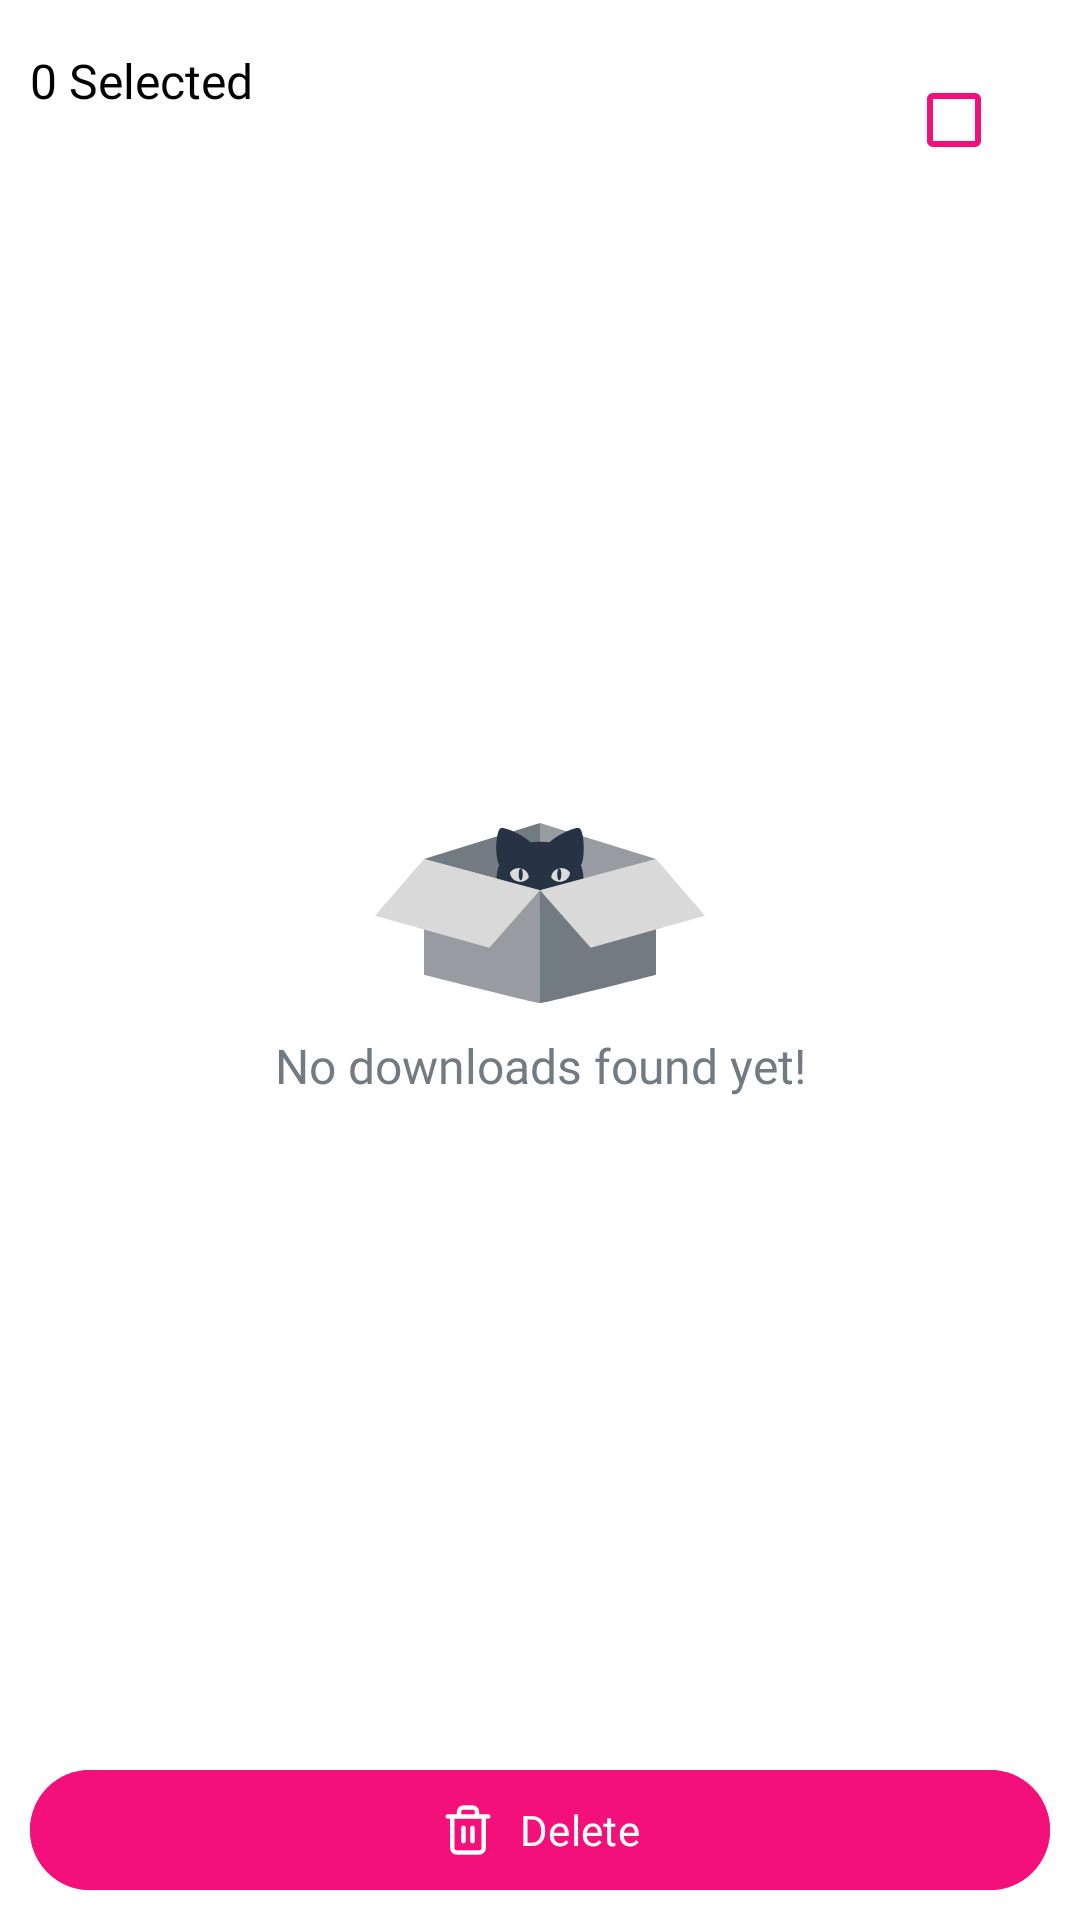

Where icons sit on this 1080 × 1920 app screen, as region(x1, y1, x2, y2):
download fragment box: region(375, 823, 705, 1003)
